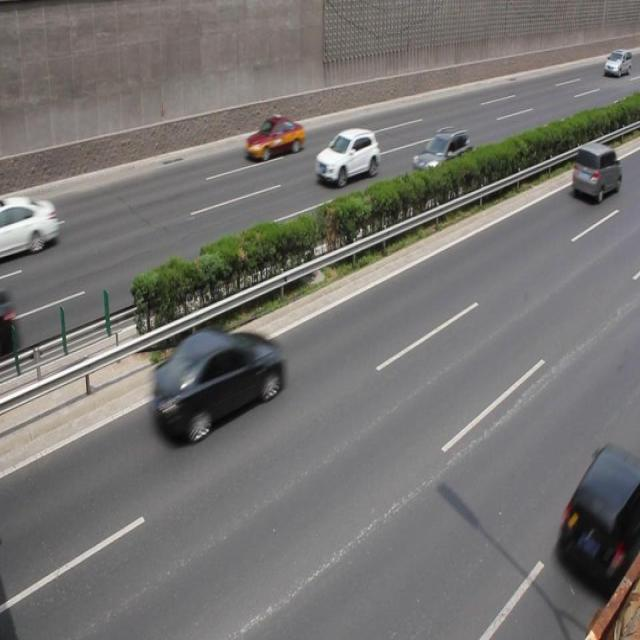car: (146, 326, 282, 442), (411, 128, 471, 192), (314, 127, 380, 185), (1, 194, 58, 258), (243, 113, 303, 163), (572, 142, 620, 202)
